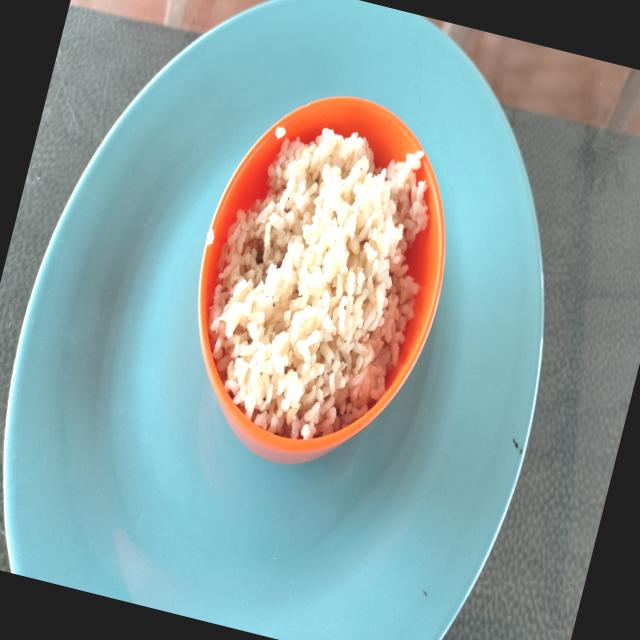brown-rice: (208, 128, 428, 439)
